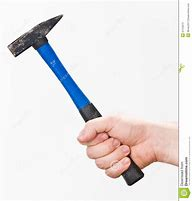hammer: (5, 13, 146, 187)
